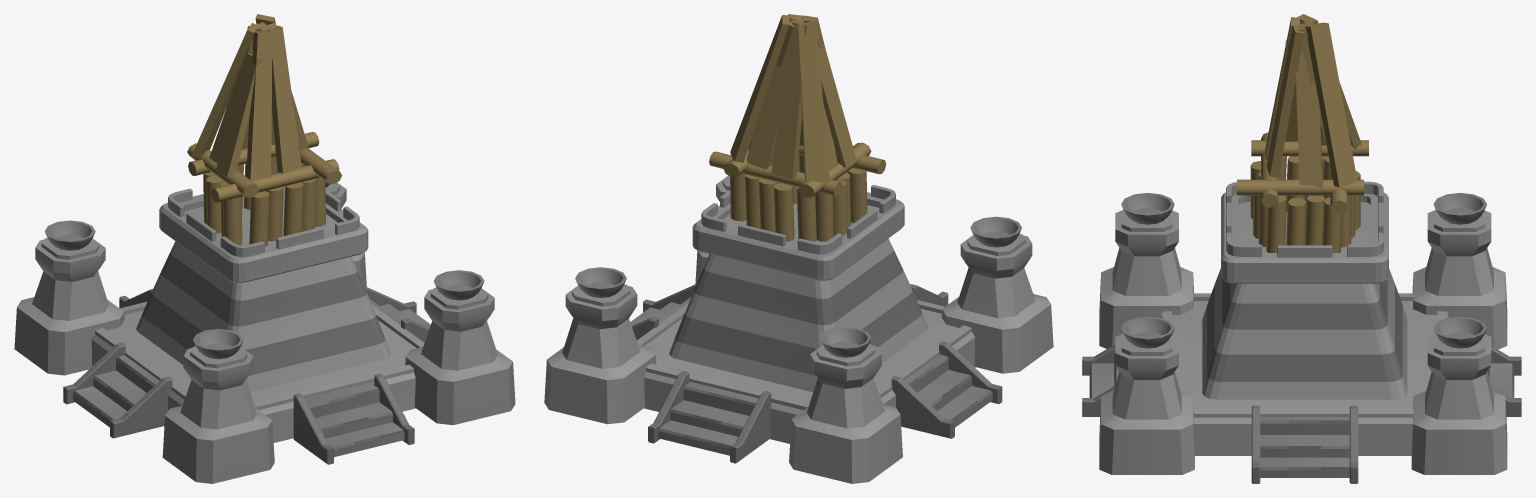
File: FireBon_Lv4.fbx
3 views of the same model, side by side, from view 1: azimuth 30°, elevation 25°; view 2: azimuth 150°, elevation 25°; view 3: azimuth 270°, elevation 25° (orthographic). The views are drawn at different scales.
Parts seen in each view (by area): view 1: Fire_Tower4; view 2: Fire_Tower4; view 3: Fire_Tower4.
Boxes of the visible parts, x1,y1,x2,y2 form: Fire_Tower4: [14, 14, 515, 483]; Fire_Tower4: [544, 14, 1053, 483]; Fire_Tower4: [1082, 14, 1521, 483].
Bounding box in the file's own units: 3.1 × 3 × 3.2.
Materials: 2 (1 with a texture image).
